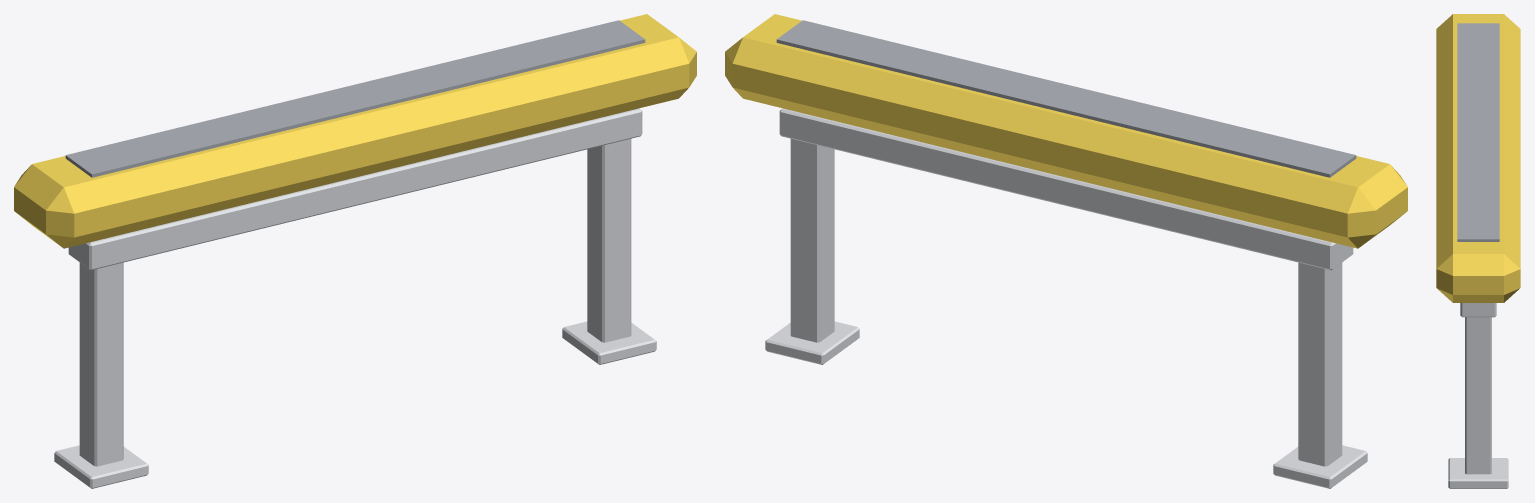
The model's file is trampoline-park-and-soft-play-safety-pad-strip-b91cd726__34612.glb.
The picture shows the model from 3 angles, left to right: view 1: azimuth 30°, elevation 25°; view 2: azimuth 150°, elevation 25°; view 3: azimuth 270°, elevation 25°; orthographic projection. The views are drawn at different scales.
Parts seen in each view (by area): view 1: safety-pad-strip; view 2: safety-pad-strip; view 3: safety-pad-strip.
Part boxes in pixels (bbox=[...]): safety-pad-strip: bbox=[14, 14, 696, 488]; safety-pad-strip: bbox=[725, 14, 1407, 488]; safety-pad-strip: bbox=[1436, 14, 1520, 488].
Size of the model in its own units: 2 by 0.9099 by 0.28.
